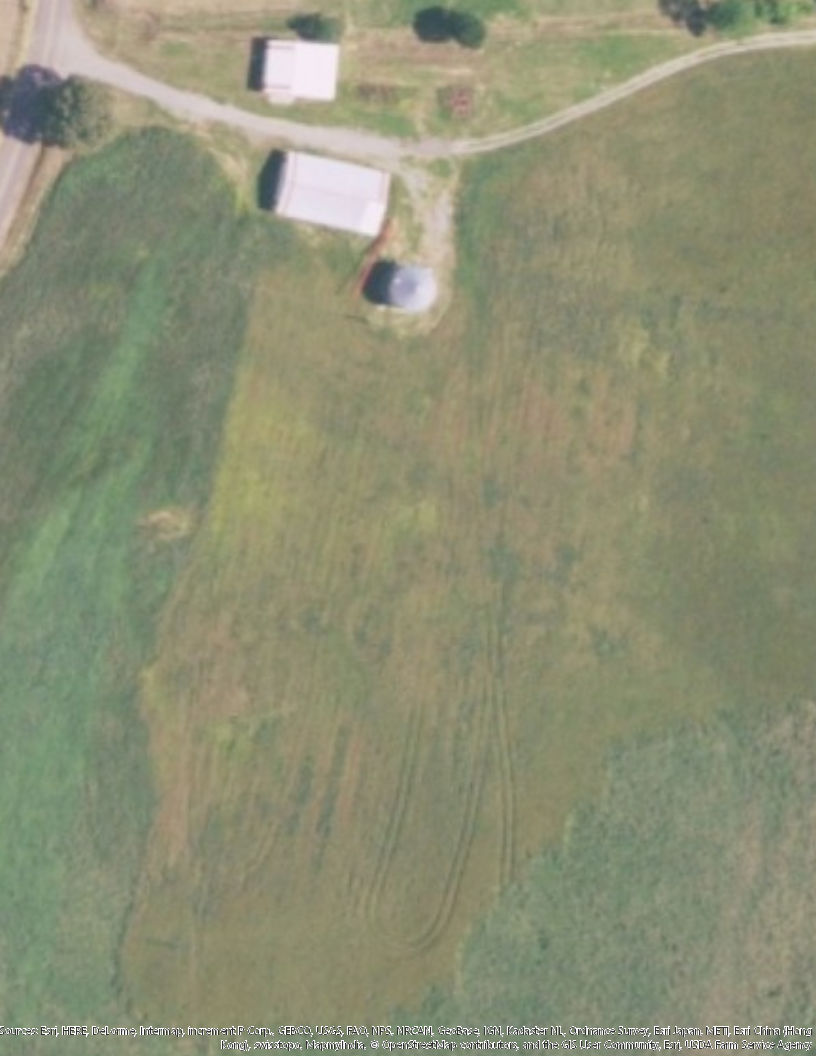cafo: (258, 140, 399, 239), (252, 34, 352, 106)
